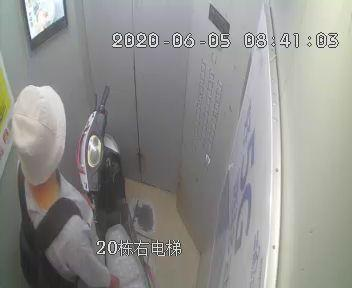Electric-bicycle: (76, 84, 153, 286)
